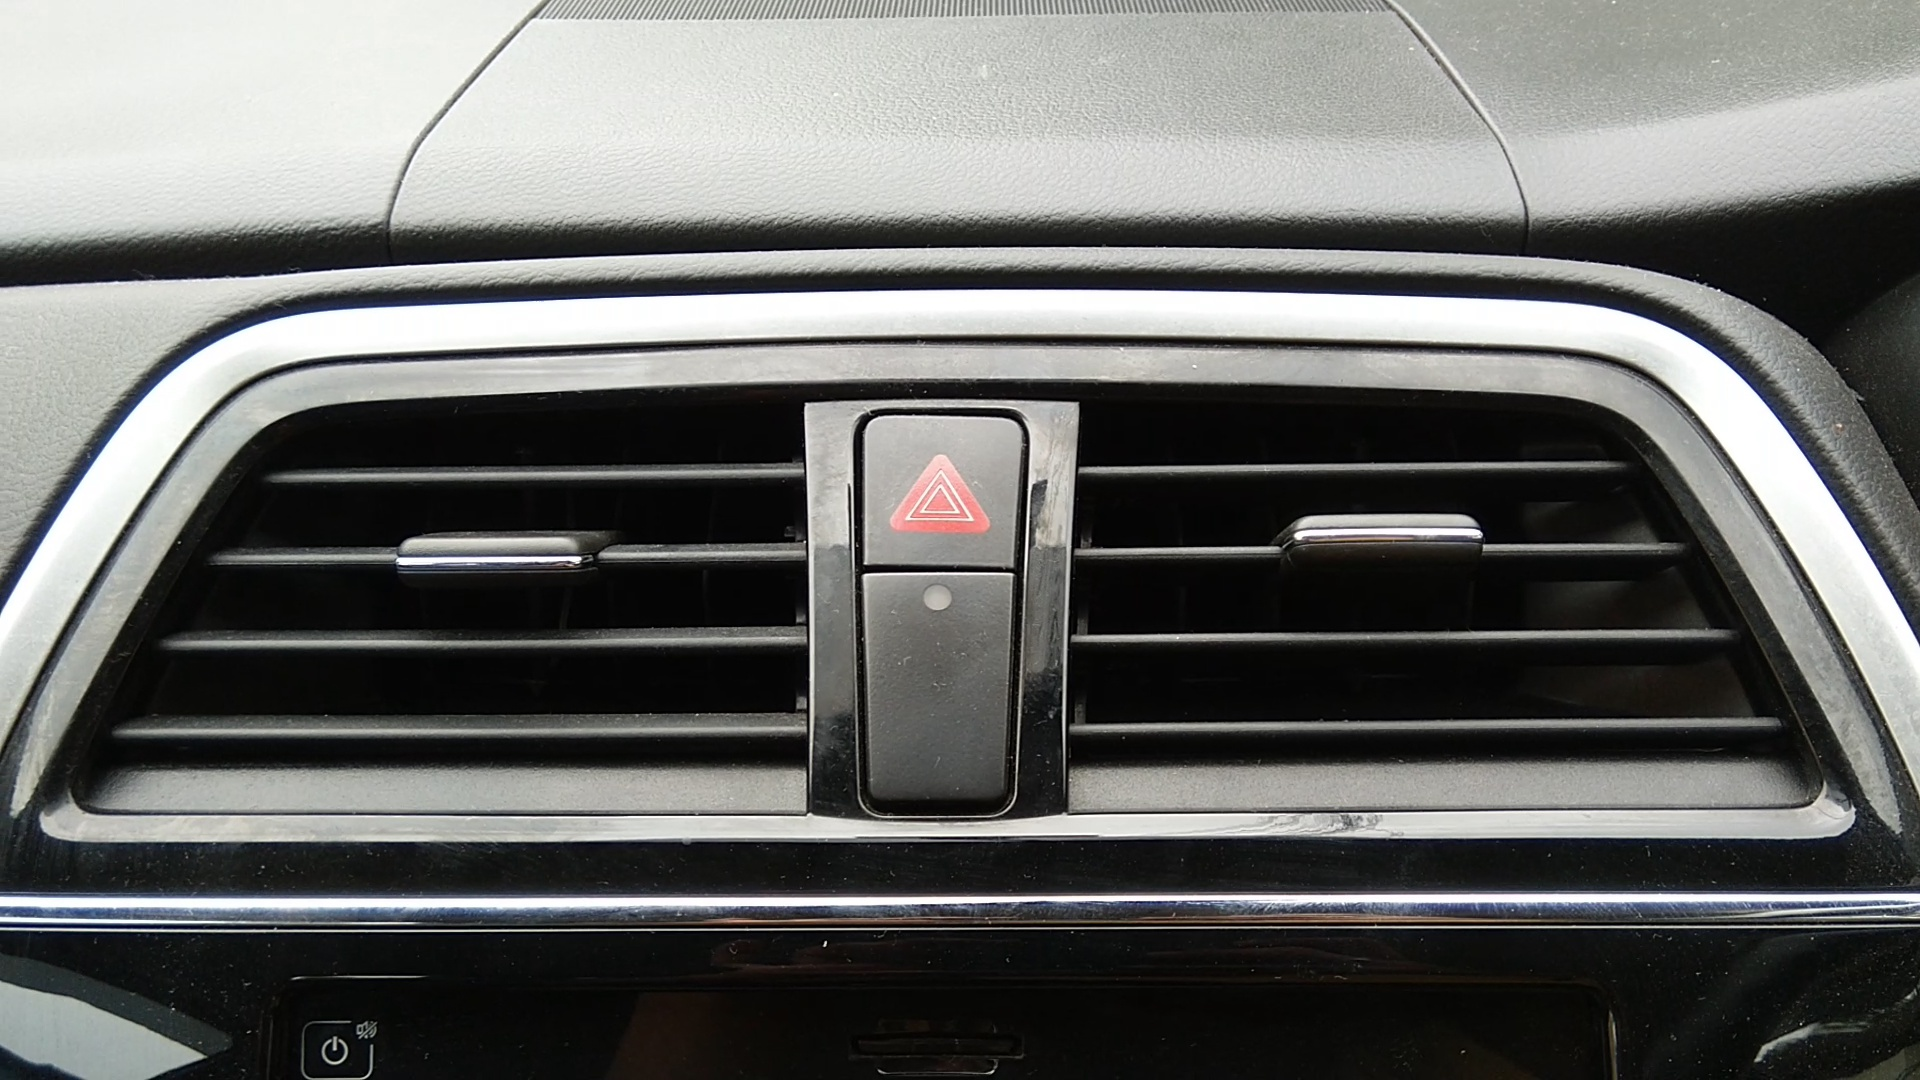parking_button: (833, 402, 1051, 582)
